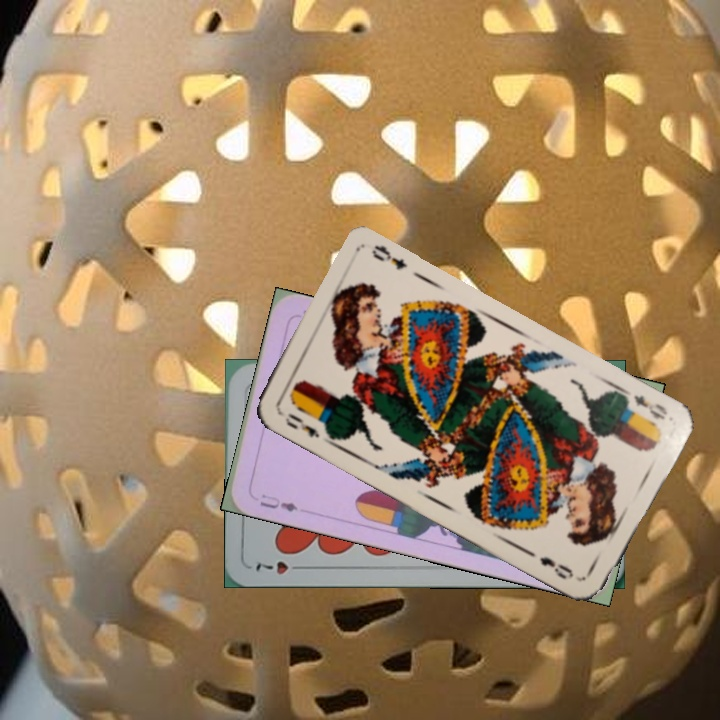EO: (629, 390, 670, 423), (281, 409, 322, 441)
EU: (256, 490, 300, 515)
H7: (251, 557, 308, 577)
